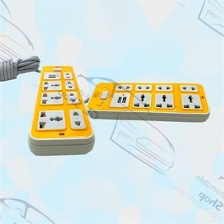three_eye_plug: (24, 63, 98, 158), (84, 80, 213, 124)
